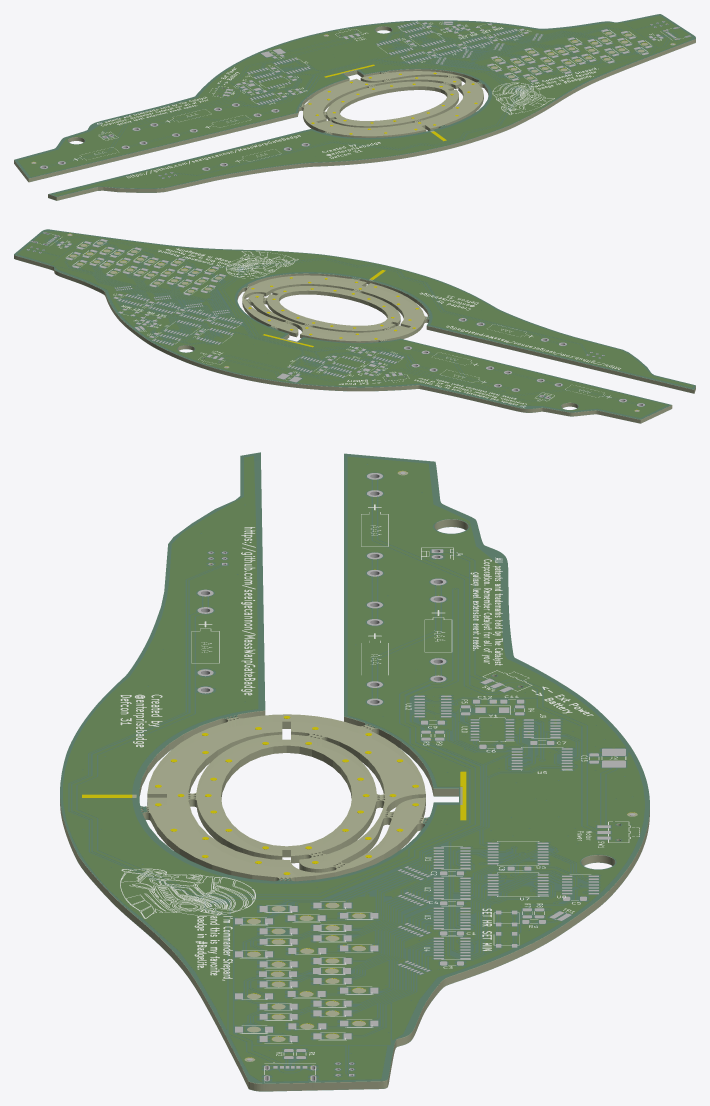
Rendered from mass-warp-gate-badge.glb.
3 renders of one model, top to bottom at view 1: azimuth 30°, elevation 25°; view 2: azimuth 150°, elevation 25°; view 3: azimuth 270°, elevation 25°, orthographic. The views are drawn at different scales.
Parts seen in each view (by area): view 1: =>[0:1:1:7], =>[0:1:1:2], =>[0:1:1:9], =>[0:1:1:5]; view 2: =>[0:1:1:7], =>[0:1:1:2], =>[0:1:1:9], =>[0:1:1:5]; view 3: =>[0:1:1:7], =>[0:1:1:2], =>[0:1:1:9], =>[0:1:1:5].
Part boxes in pixels (<box>): =>[0:1:1:7]: <box>14,14,695,200</box>; =>[0:1:1:2]: <box>19,16,691,195</box>; =>[0:1:1:9]: <box>14,15,695,200</box>; =>[0:1:1:5]: <box>73,21,684,178</box>; =>[0:1:1:7]: <box>14,229,695,423</box>; =>[0:1:1:2]: <box>18,232,692,417</box>; =>[0:1:1:9]: <box>14,230,695,423</box>; =>[0:1:1:5]: <box>30,234,620,407</box>; =>[0:1:1:7]: <box>60,452,649,1091</box>; =>[0:1:1:2]: <box>63,456,644,1081</box>; =>[0:1:1:9]: <box>60,453,649,1091</box>; =>[0:1:1:5]: <box>120,504,639,1082</box>.
Bounding box in the file's own units: 0.2779 × 0.00165 × 0.1097.
4 materials, 4 textured.
